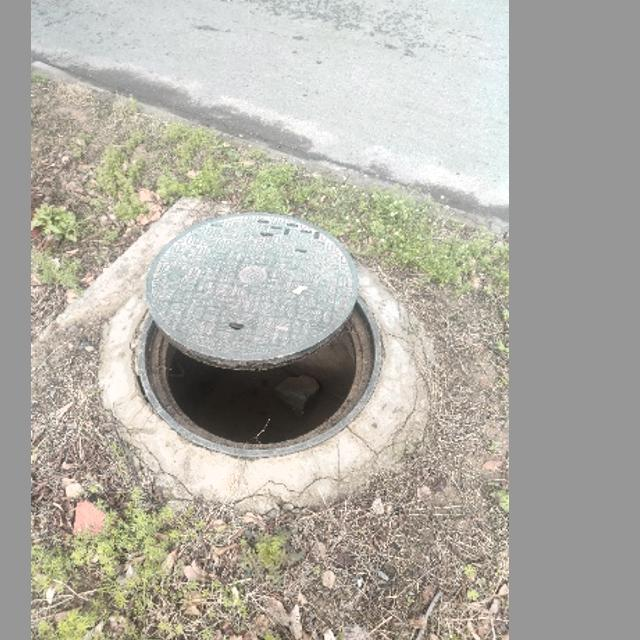uncovered: (133, 208, 394, 463)
